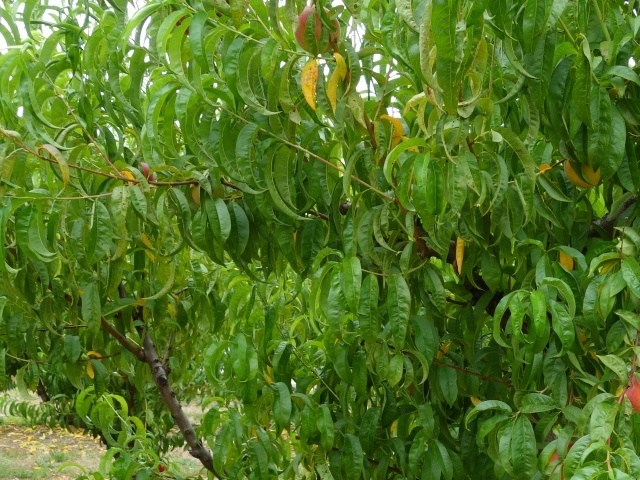peach: (292, 5, 347, 57), (562, 150, 604, 194)
